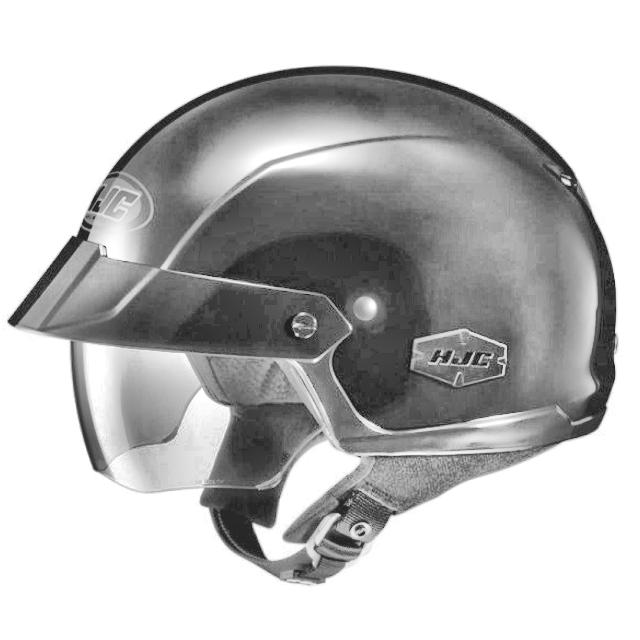Helmet: (5, 70, 627, 590)
